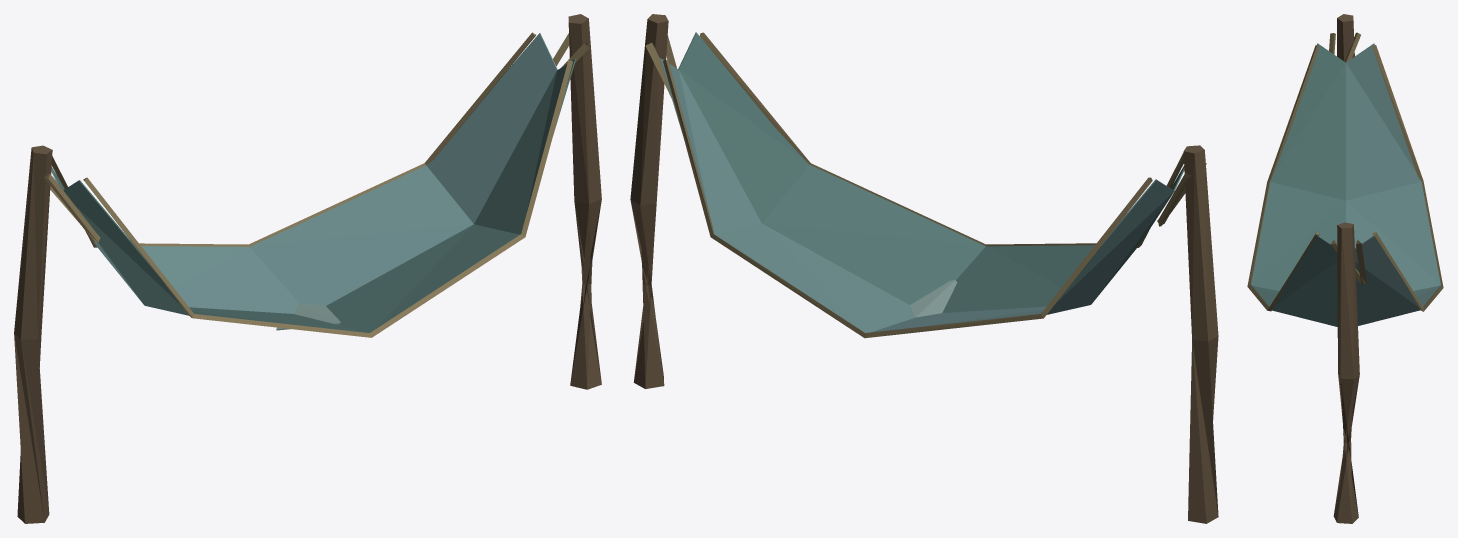
File: banner_hammock.glb
The picture shows the model from 3 angles, left to right: view 1: azimuth 30°, elevation 25°; view 2: azimuth 150°, elevation 25°; view 3: azimuth 270°, elevation 25°; orthographic projection. The views are drawn at different scales.
Visible parts, largest first — view 1: Body_banner_hammock.001; view 2: Body_banner_hammock.001; view 3: Body_banner_hammock.001.
Part boxes in pixels (box(x1,y1,x2,y2)): Body_banner_hammock.001: box(14, 14, 601, 523); Body_banner_hammock.001: box(630, 14, 1218, 523); Body_banner_hammock.001: box(1247, 14, 1443, 523).
Bounding box in the file's own units: 2.99 × 1.81 × 1.1.
